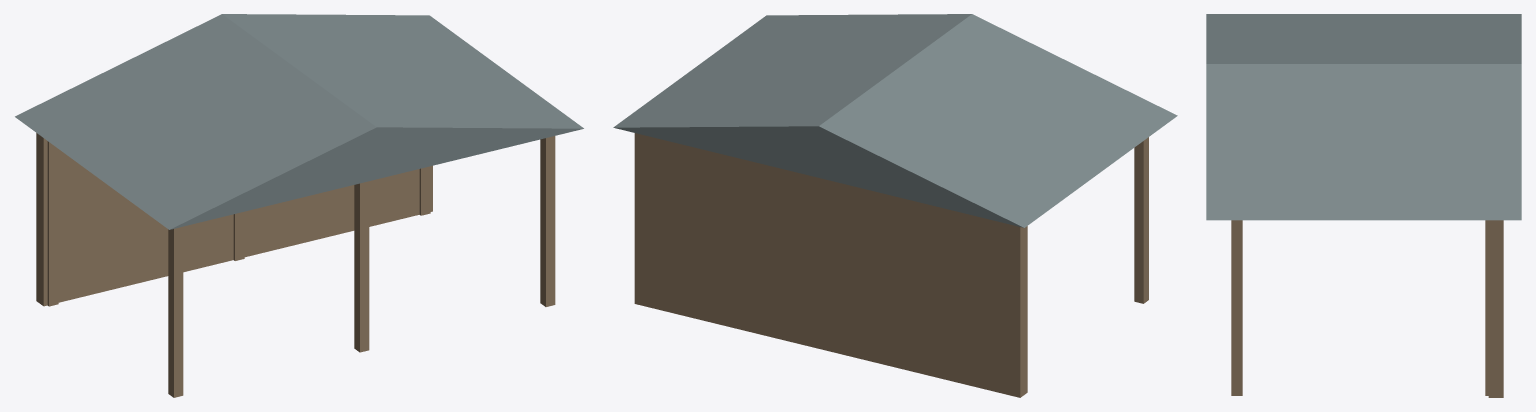
The picture shows the model from 3 angles, left to right: view 1: azimuth 30°, elevation 25°; view 2: azimuth 150°, elevation 25°; view 3: azimuth 270°, elevation 25°; orthographic projection. The views are drawn at different scales.
Bounding box in the file's own units: 9.6 × 5.15 × 6.2.
